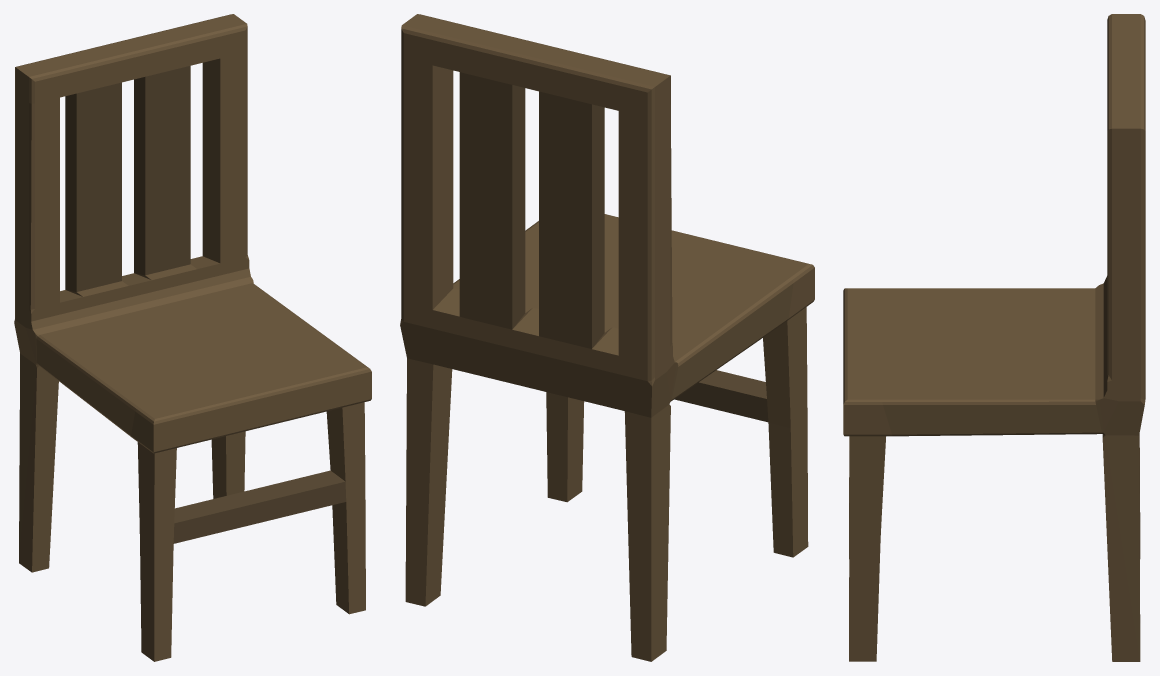
File: Chair.fbx
3 views of the same model, side by side, from view 1: azimuth 30°, elevation 25°; view 2: azimuth 150°, elevation 25°; view 3: azimuth 270°, elevation 25° (orthographic). The views are drawn at different scales.
Visible parts, largest first — view 1: Cube; view 2: Cube; view 3: Cube.
Part boxes in pixels (x1,y1,x2,y2): Cube: (14,14,371,661); Cube: (400,14,814,661); Cube: (843,14,1145,661).
Size of the model in its own units: 0.4026 by 0.8753 by 0.448.
